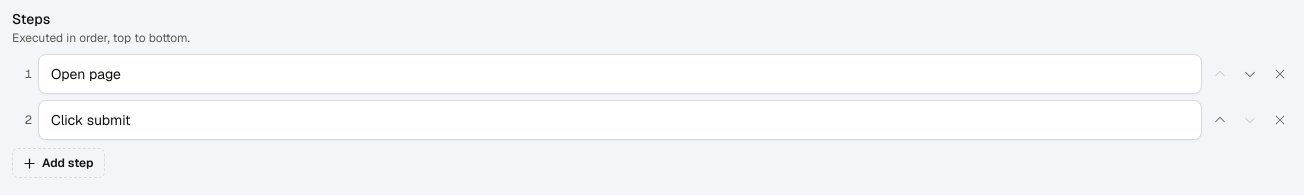
StepListField › removes a row when its remove button is clicked
What coordinates should you click on to do the following:
click the 1st button named "Remove"
I would click on:
 (1280, 74)
Its box is [1268, 62, 1292, 86].
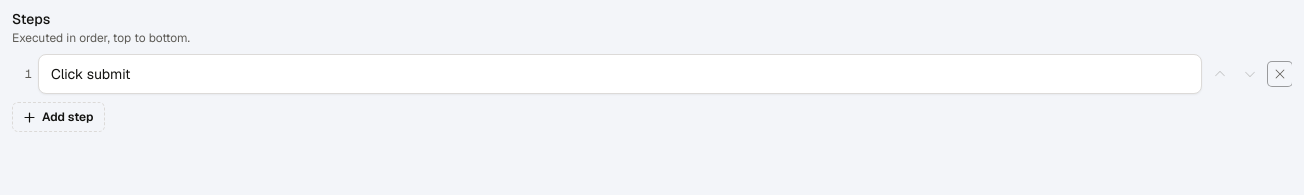
Expected: the field showing "Open page" is not shown
Expected: the field named "Step 1" holds "Click submit", [38, 54, 1202, 94]
